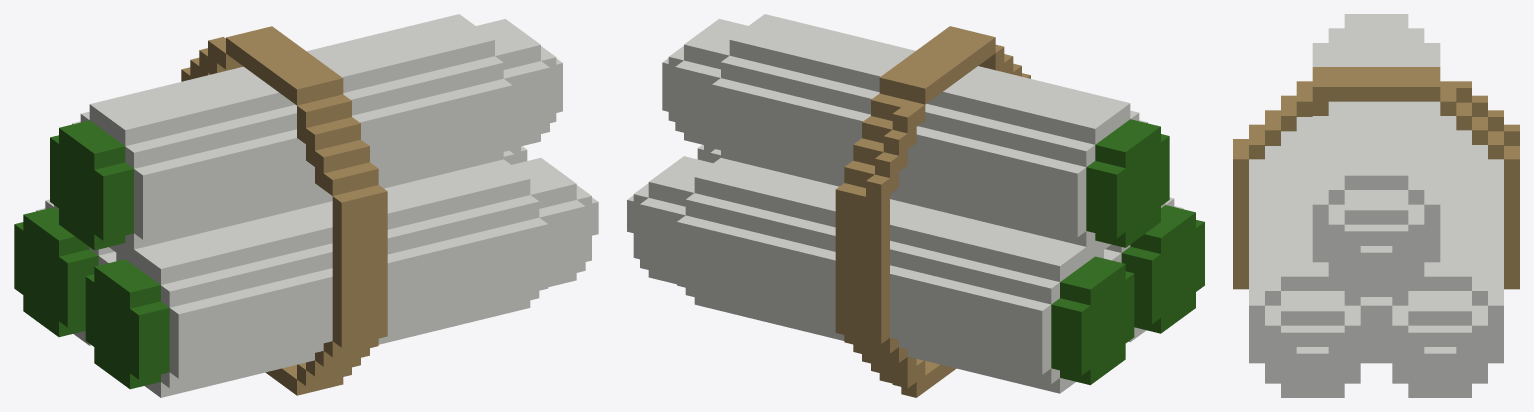
File: horn_moss_capsules.glb
3 views of the same model, side by side, from view 1: azimuth 30°, elevation 25°; view 2: azimuth 150°, elevation 25°; view 3: azimuth 270°, elevation 25° (orthographic). The views are drawn at different scales.
Parts seen in each view (by area): view 1: horn_moss_capsules:compound; view 2: horn_moss_capsules:compound; view 3: horn_moss_capsules:compound.
Part boxes in pixels (<box>): horn_moss_capsules:compound: <box>14,14,598,397</box>; horn_moss_capsules:compound: <box>627,14,1204,397</box>; horn_moss_capsules:compound: <box>1233,14,1519,397</box>.
Size of the model in its own units: 0.062 by 0.038 by 0.036.
